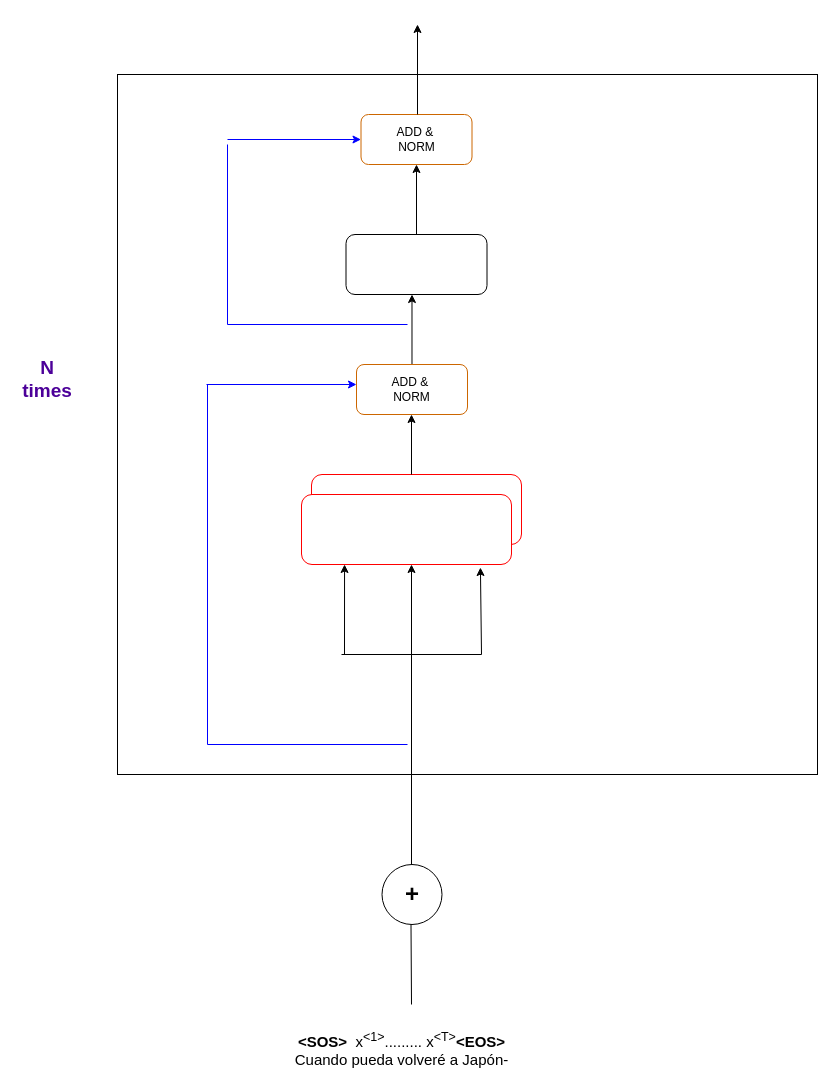
Image size: 835x1092. Some labels were removed from this diagram. Each missing label, with the box of its shape:
FEED FORWARD NEURAL NETWORK: (345, 234, 487, 294)
MULTI-HEAD ATTENTION: (300, 494, 512, 564)
